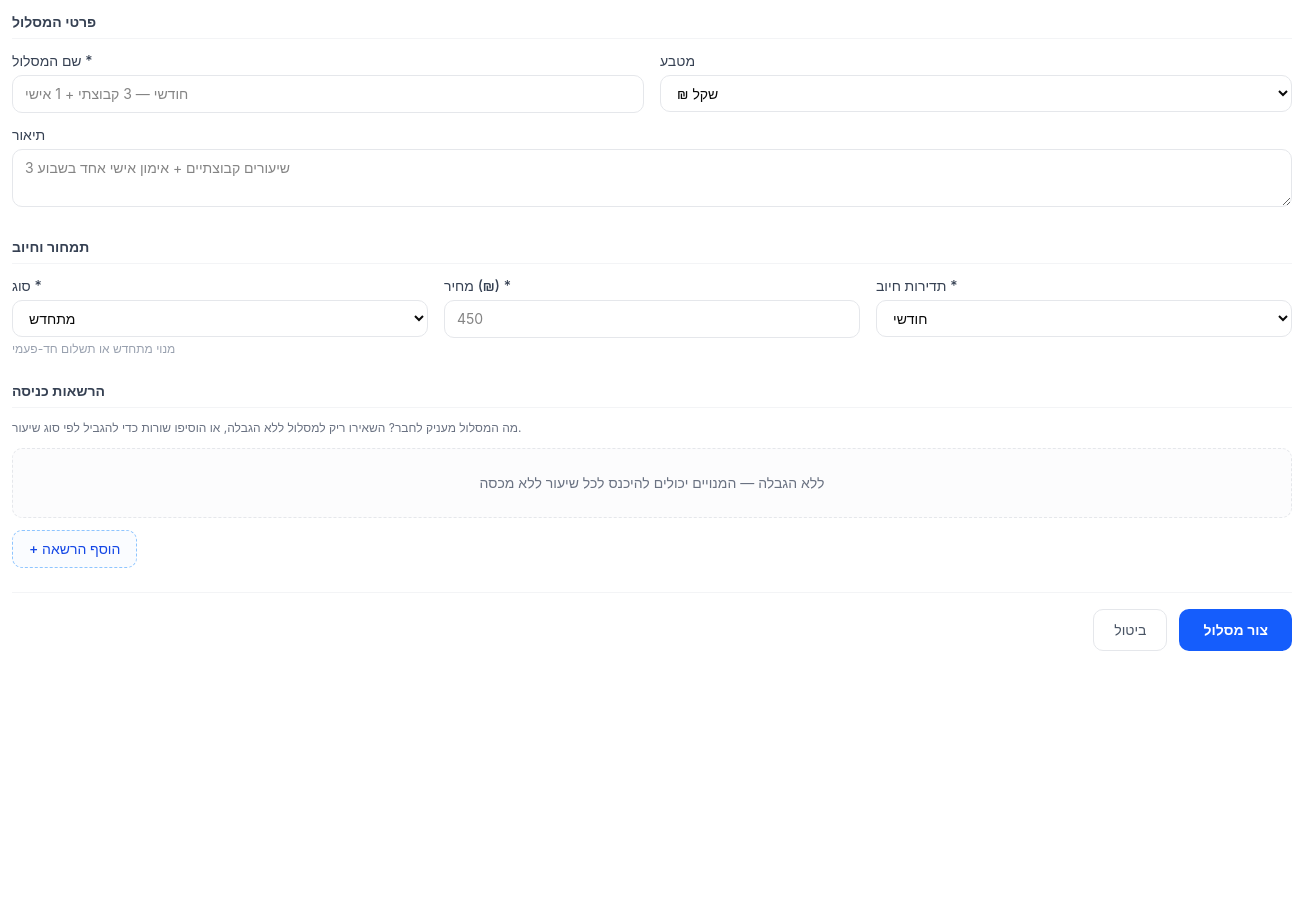
Test case: PlanForm — create mode › '+ הוסף הרשאה' adds a row with class selector + quantity + reset
Click the button "+ הוסף הרשאה".
click(75, 549)  # box [12,530,137,568]
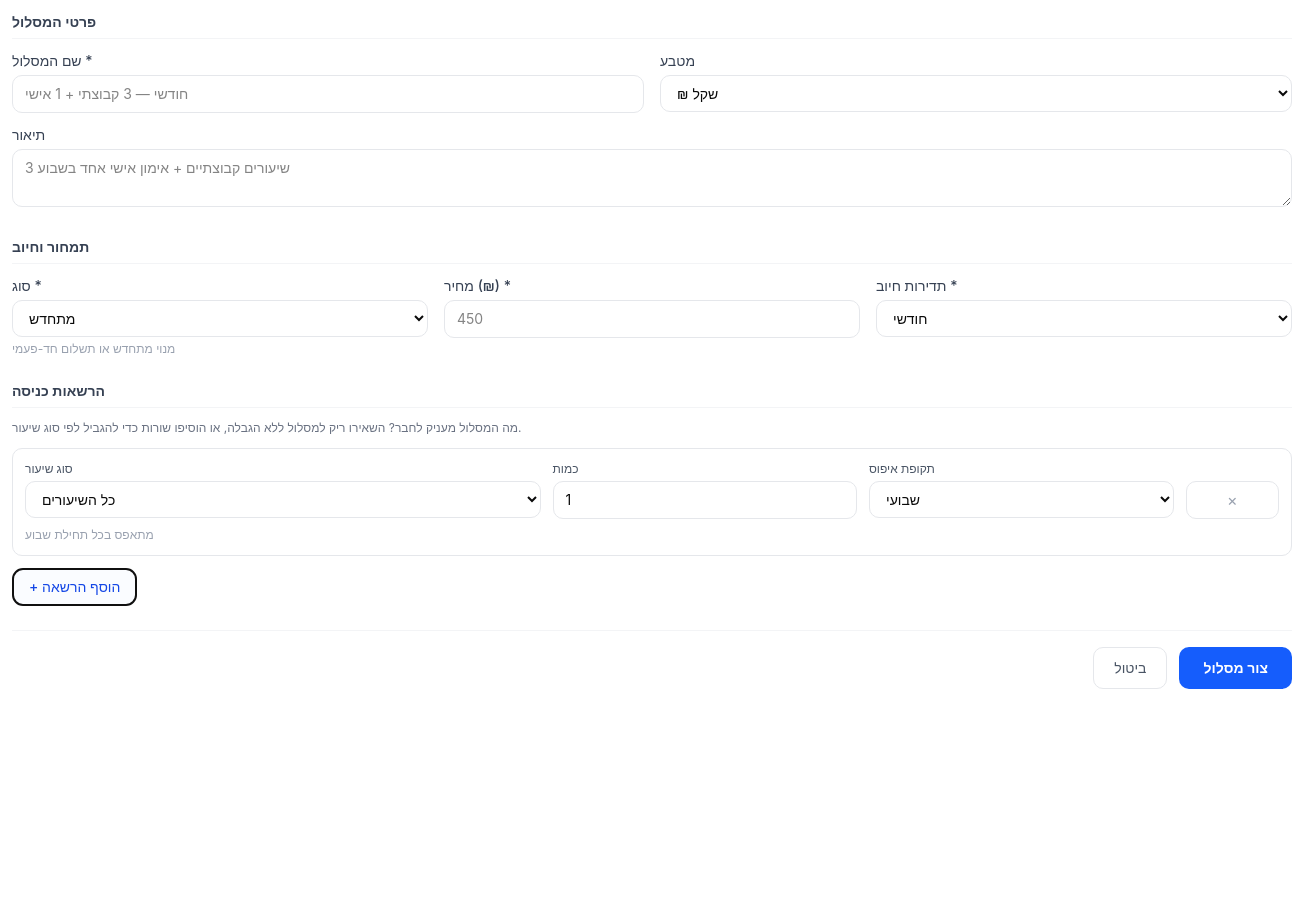
Check: the text "סוג שיעור" is shown, box [25,461,73,476]
Check: the text "כמות" is shown, box [552,461,578,476]
Check: the text "תקופת איפוס" is shown, box [869,461,935,476]
